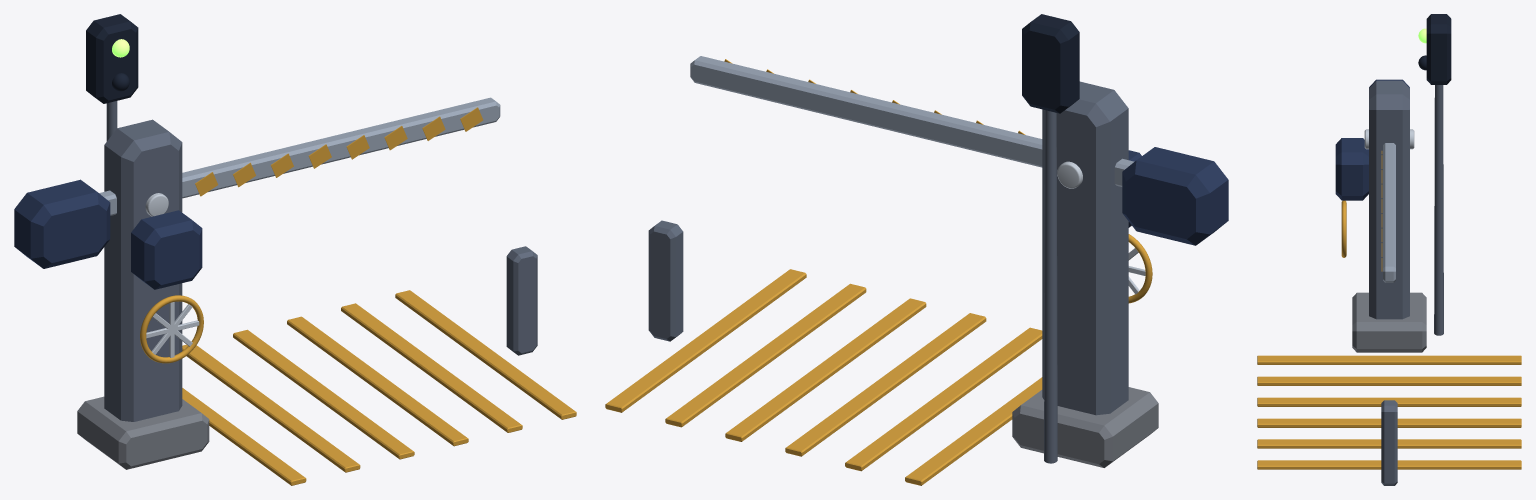
Rendered from shared_gate_operated.glb.
3 renders of one model, left to right at view 1: azimuth 30°, elevation 25°; view 2: azimuth 150°, elevation 25°; view 3: azimuth 270°, elevation 25°, orthographic. The views are drawn at different scales.
Visible parts, largest first — view 1: gate_post, gate_counter, gate_boom, gate_post_foot, gate_gearbox, gate_signal_head, gate_rest, gate_rumble2, gate_rumble3, gate_rumble5, gate_rumble4, gate_rumble1 (+3 smaller); view 2: gate_post, gate_boom, gate_counter, gate_post_foot, gate_signal_head, gate_signal_mast, gate_rest, gate_rumble3, gate_rumble2, gate_rumble4, gate_rumble5, gate_rumble1 (+1 smaller); view 3: gate_post, gate_post_foot, gate_rumble0, gate_rumble1, gate_rumble2, gate_rumble4, gate_rumble5, gate_rumble3, gate_signal_mast, gate_gearbox, gate_boom, gate_signal_head (+2 smaller).
Part boxes in pixels (bbox=[...]): gate_post: bbox=[104, 119, 182, 421]; gate_counter: bbox=[14, 179, 110, 268]; gate_boom: bbox=[99, 97, 500, 215]; gate_post_foot: bbox=[77, 396, 209, 469]; gate_gearbox: bbox=[131, 210, 202, 289]; gate_signal_head: bbox=[86, 14, 138, 103]; gate_rest: bbox=[506, 246, 537, 355]; gate_rumble2: bbox=[233, 329, 414, 459]; gate_rumble3: bbox=[287, 316, 468, 446]; gate_rumble5: bbox=[395, 290, 576, 419]; gate_rumble4: bbox=[341, 303, 522, 432]; gate_rumble1: bbox=[182, 344, 360, 472]; gate_post: bbox=[1042, 81, 1128, 415]; gate_boom: bbox=[690, 56, 1134, 186]; gate_counter: bbox=[1122, 147, 1228, 245]; gate_post_foot: bbox=[1012, 387, 1158, 467]; gate_signal_head: bbox=[1022, 14, 1079, 113]; gate_signal_mast: bbox=[1044, 110, 1057, 463]; gate_rest: bbox=[648, 220, 683, 341]; gate_rumble3: bbox=[725, 298, 926, 441]; gate_rumble2: bbox=[785, 313, 986, 456]; gate_rumble4: bbox=[665, 283, 866, 427]; gate_rumble5: bbox=[605, 269, 806, 412]; gate_rumble1: bbox=[845, 327, 1042, 471]; gate_post: bbox=[1369, 80, 1409, 319]; gate_post_foot: bbox=[1352, 292, 1426, 352]; gate_rumble0: bbox=[1257, 355, 1521, 364]; gate_rumble1: bbox=[1257, 376, 1521, 385]; gate_rumble2: bbox=[1257, 397, 1521, 406]; gate_rumble4: bbox=[1257, 439, 1521, 448]; gate_rumble5: bbox=[1257, 460, 1521, 469]; gate_rumble3: bbox=[1257, 418, 1521, 427]; gate_signal_mast: bbox=[1434, 85, 1443, 335]; gate_gearbox: bbox=[1335, 138, 1368, 200]; gate_boom: bbox=[1383, 143, 1395, 282]; gate_signal_head: bbox=[1426, 14, 1451, 84].
Size of the model in its own units: 5.68 by 4.29 by 3.2.
